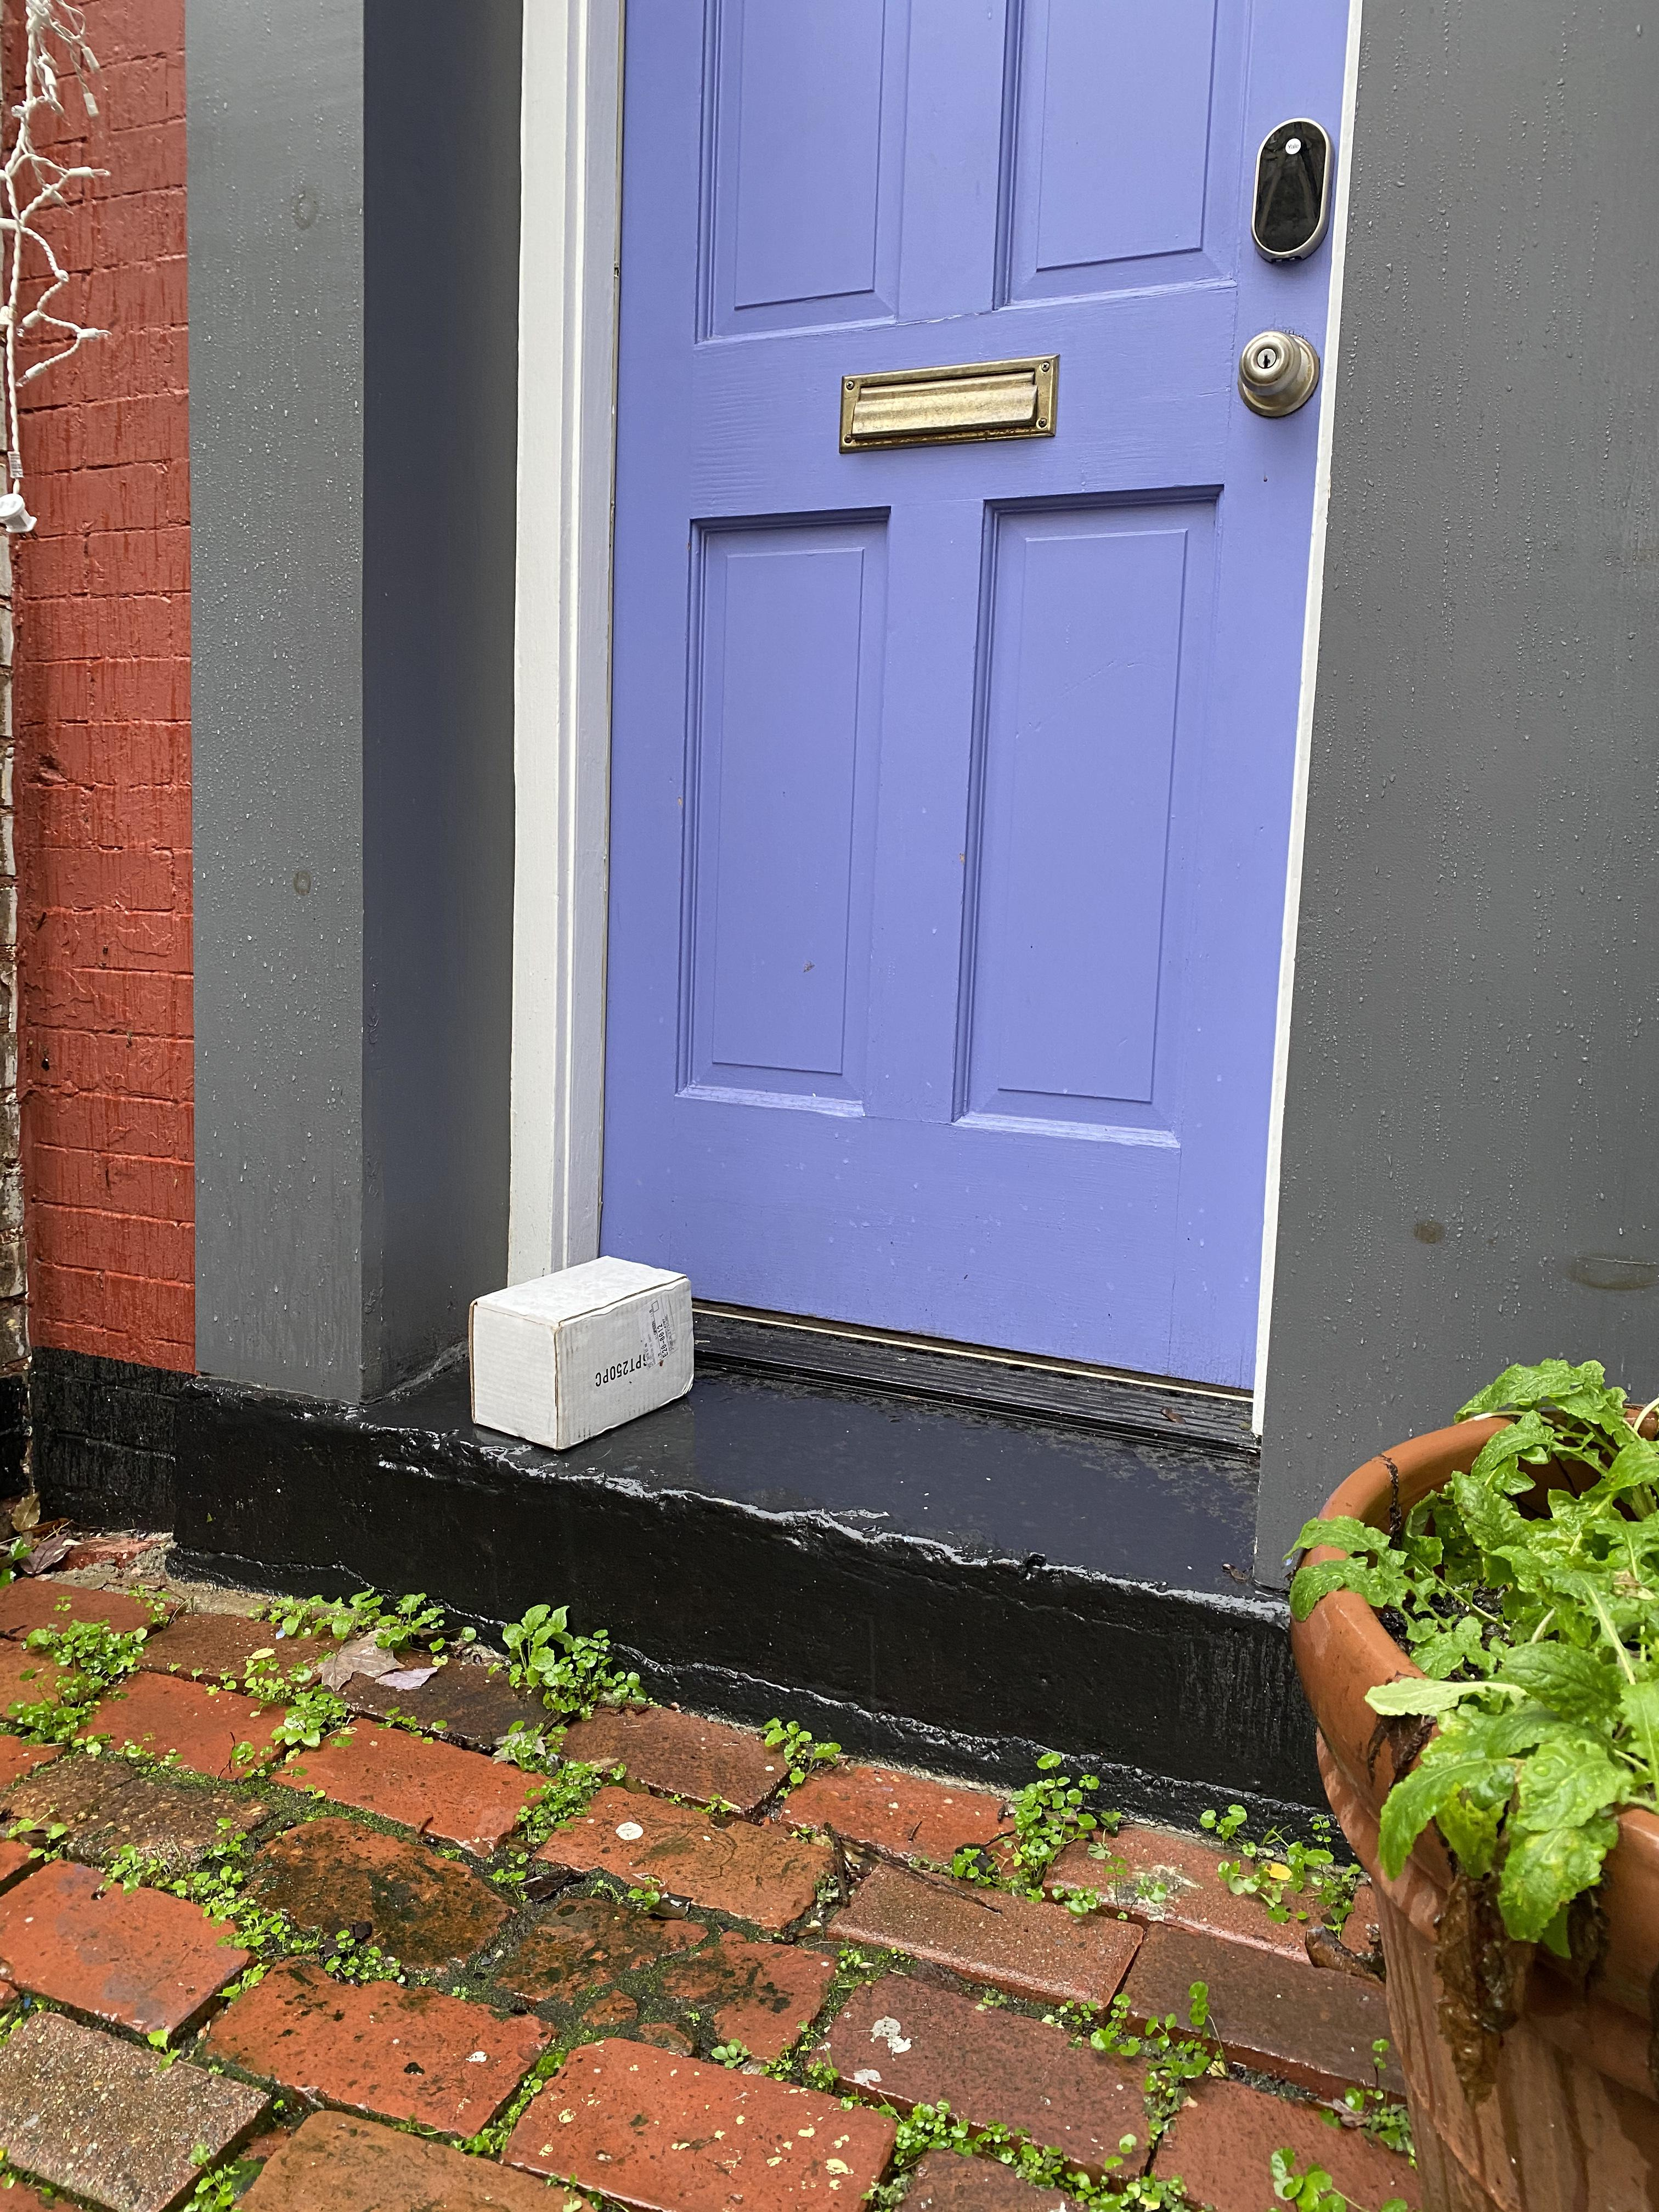package: (451, 1238, 706, 1468)
